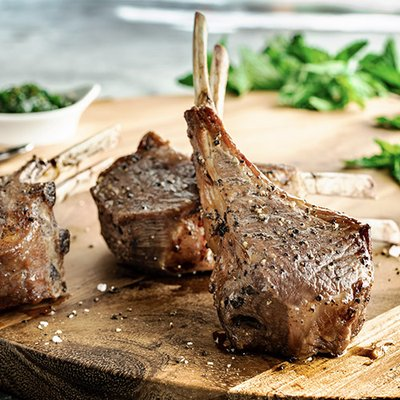curry: (0, 83, 66, 113)
sushi: (0, 80, 102, 156)
